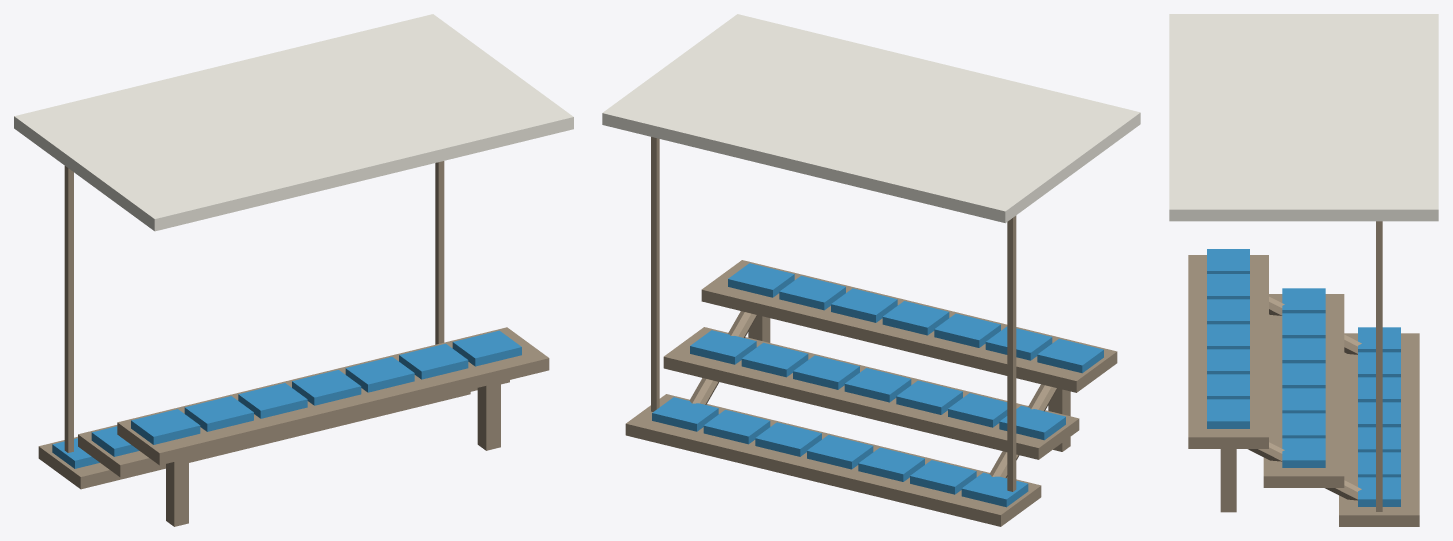
The model's file is stock-car-oval-speedway-spotter-stand-2857d251__16934.glb.
The picture shows the model from 3 angles, left to right: view 1: azimuth 30°, elevation 25°; view 2: azimuth 150°, elevation 25°; view 3: azimuth 270°, elevation 25°; orthographic projection. The views are drawn at different scales.
Parts seen in each view (by area): view 1: spotter-stand; view 2: spotter-stand; view 3: spotter-stand.
Part boxes in pixels (box(x1,y1,x2,y2)): spotter-stand: box(14, 14, 573, 526); spotter-stand: box(602, 14, 1140, 526); spotter-stand: box(1169, 14, 1438, 526).
Bounding box in the file's own units: 4.3 × 3.37 × 2.5.
